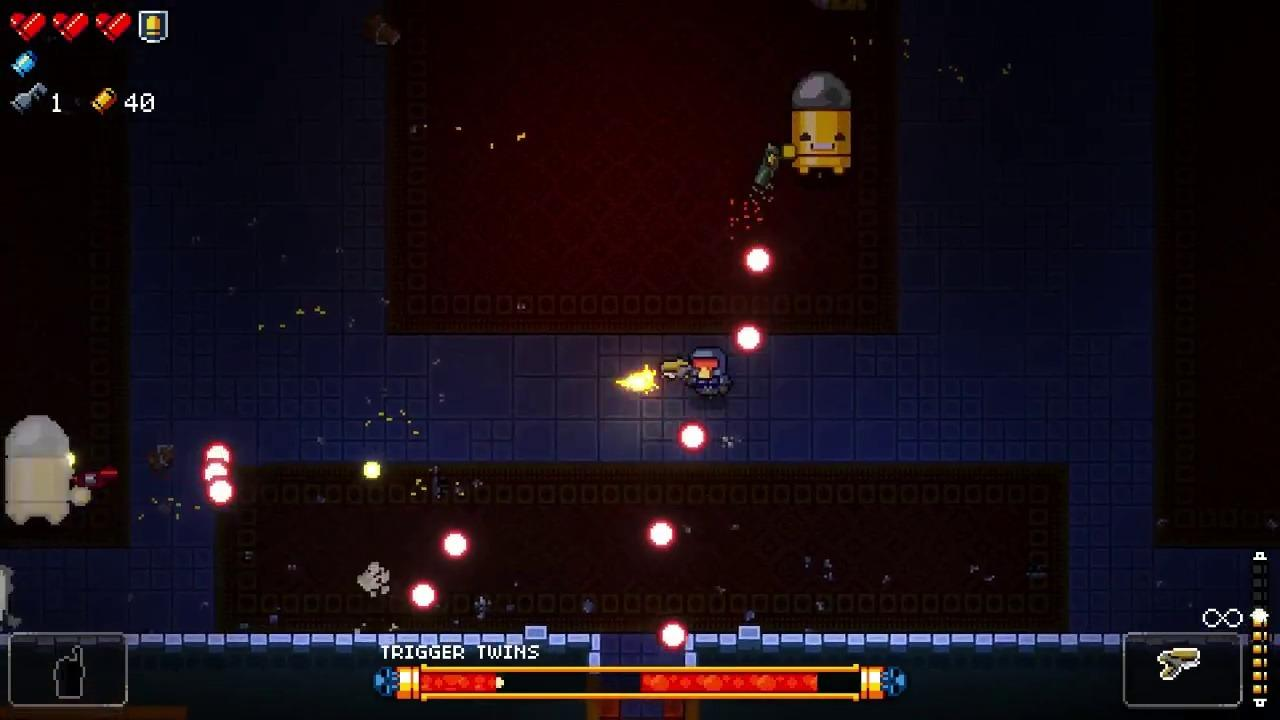boss_shades: (4, 415, 70, 528)
boss_smiley: (793, 72, 852, 177)
bullet: (739, 244, 774, 278), (680, 424, 713, 456), (201, 459, 232, 492), (647, 519, 677, 553), (203, 442, 233, 474), (442, 531, 472, 563), (658, 622, 688, 653), (734, 324, 765, 354), (410, 581, 438, 614), (207, 477, 237, 505)
player: (690, 347, 733, 396)
